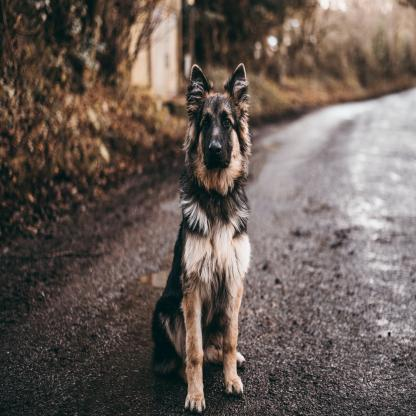dog: (155, 62, 256, 410)
